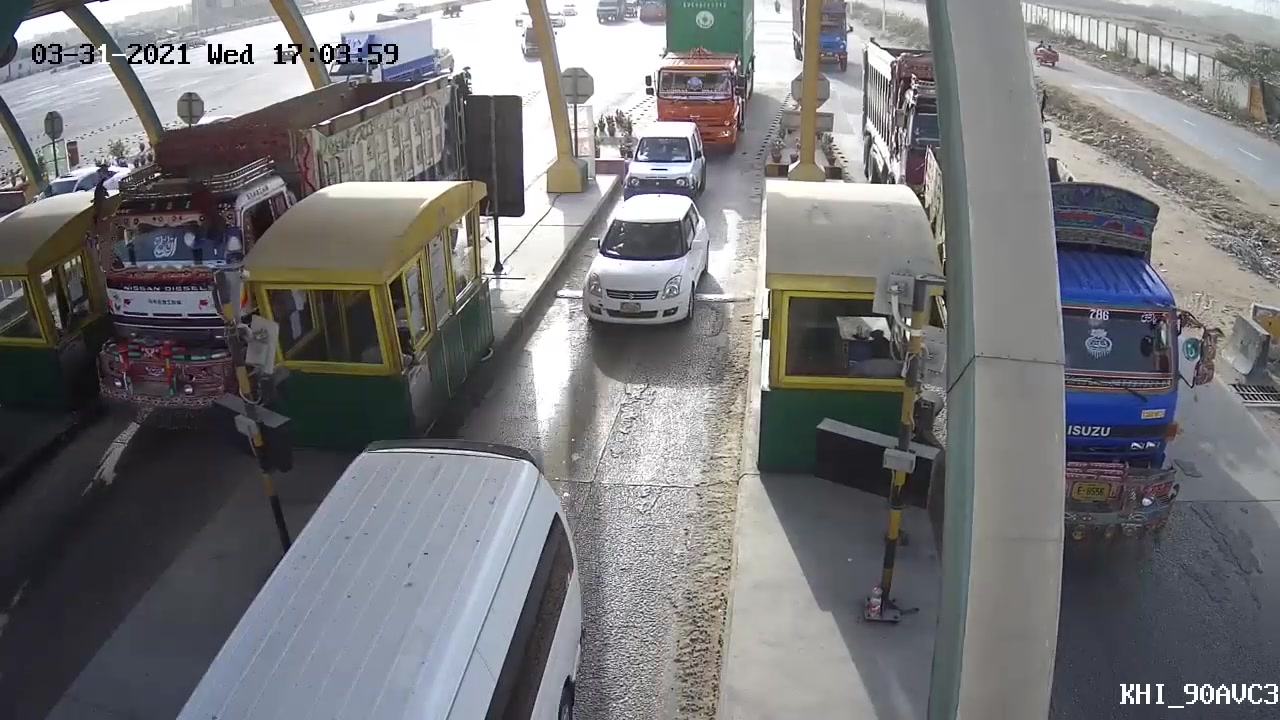F1: (575, 192, 713, 342)
